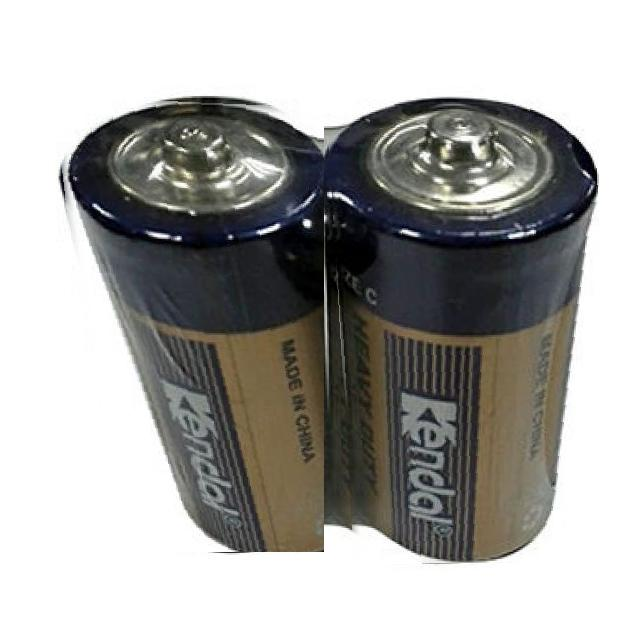battery: (326, 95, 599, 564), (54, 96, 324, 552)
